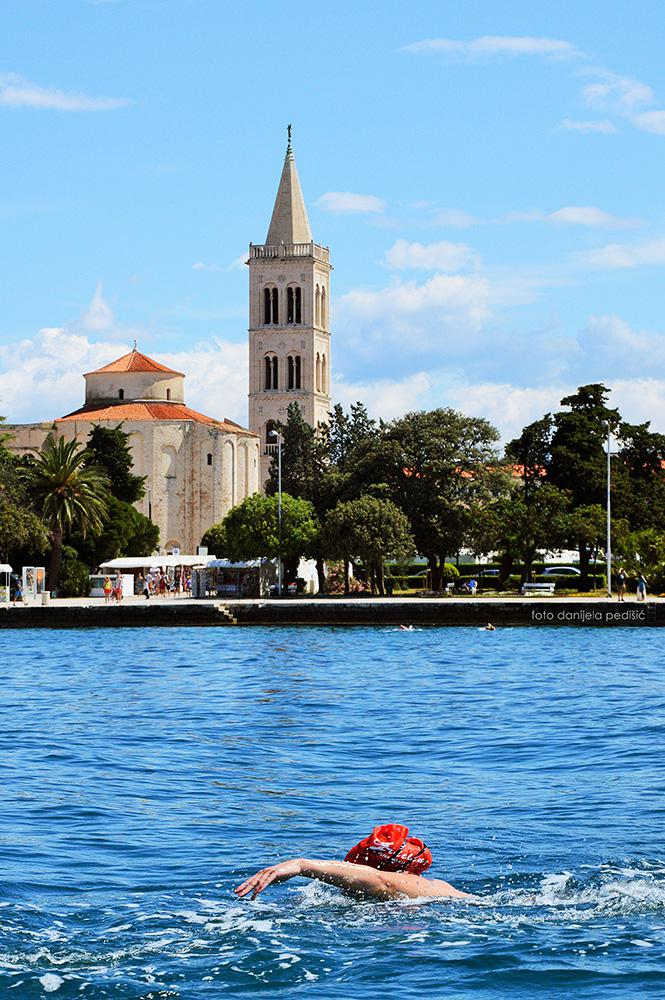swimmer: (233, 822, 476, 914)
